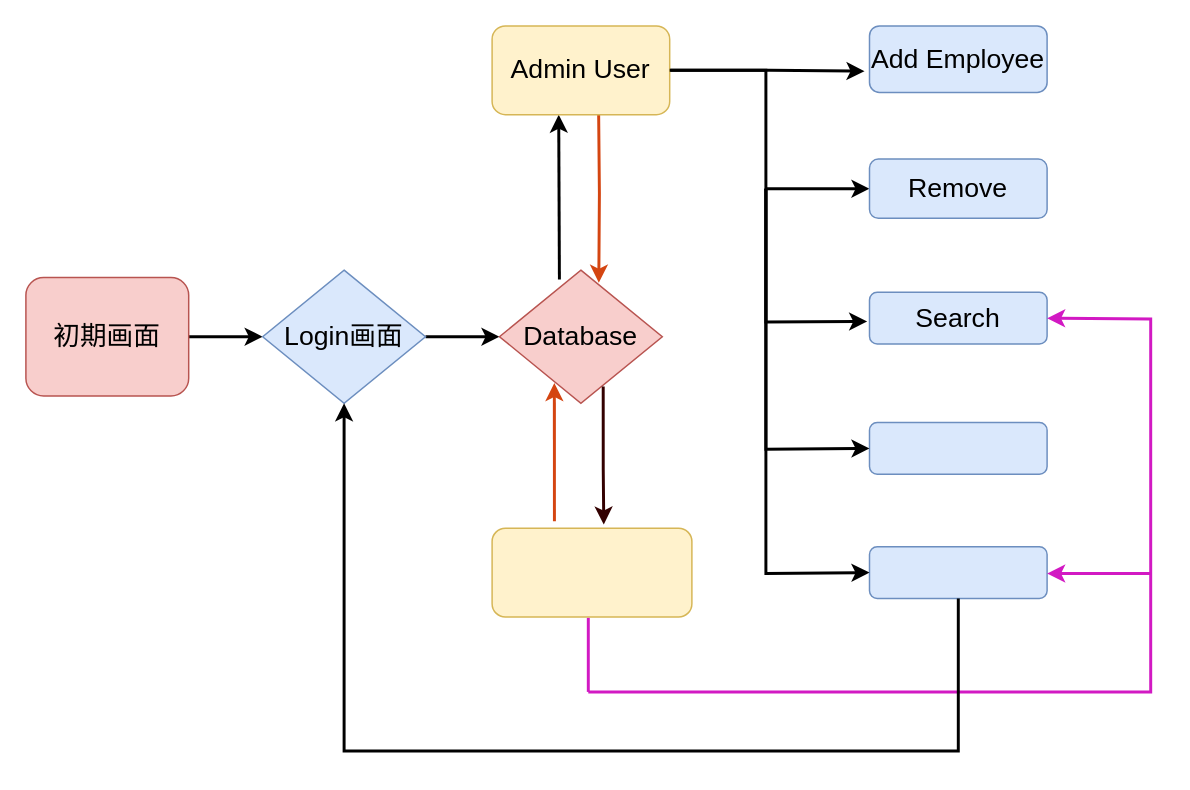
This 1190x790 diagram has some shape labels left out. Each missing label, with the centre of its shape:
Employee User: point 591,572
Logout: point 957,572
Update: point 957,447
